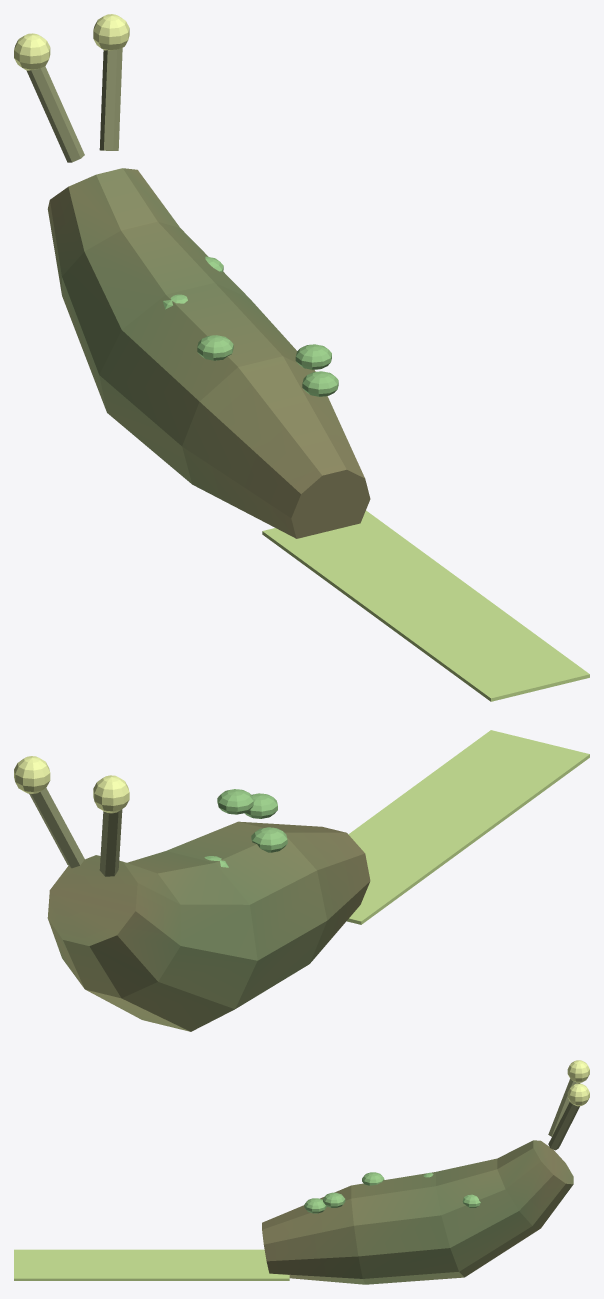
Rendered from RotSlug.fbx.
3 renders of one model, top to bottom at view 1: azimuth 30°, elevation 25°; view 2: azimuth 150°, elevation 25°; view 3: azimuth 270°, elevation 25°, orthographic. The views are drawn at different scales.
Visible parts, largest first — view 1: Enemy_RotSlug; view 2: Enemy_RotSlug; view 3: Enemy_RotSlug.
Part boxes in pixels (x1,y1,x2,y2): Enemy_RotSlug: (14,14,589,701); Enemy_RotSlug: (14,730,589,1031); Enemy_RotSlug: (14,1060,589,1284).
Size of the model in its own units: 0.48 by 0.9869 by 2.51.
